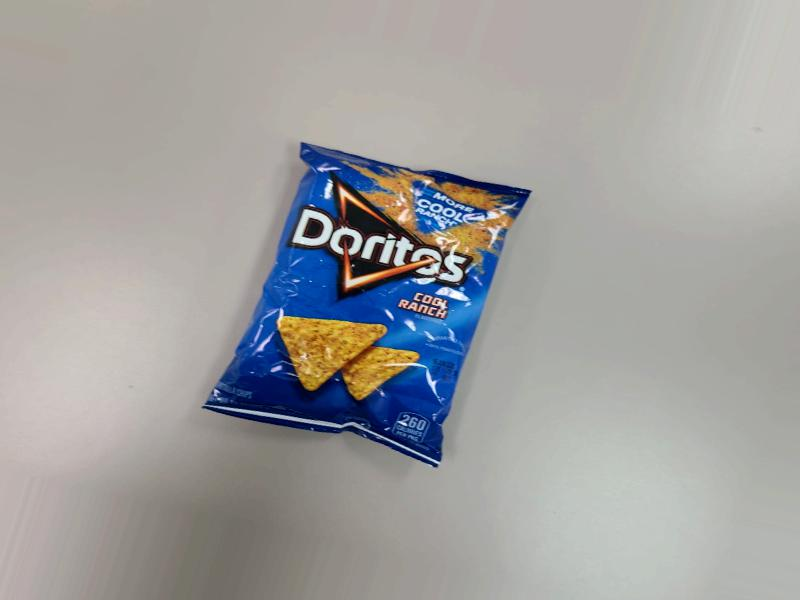doritos: (220, 144, 522, 467)
